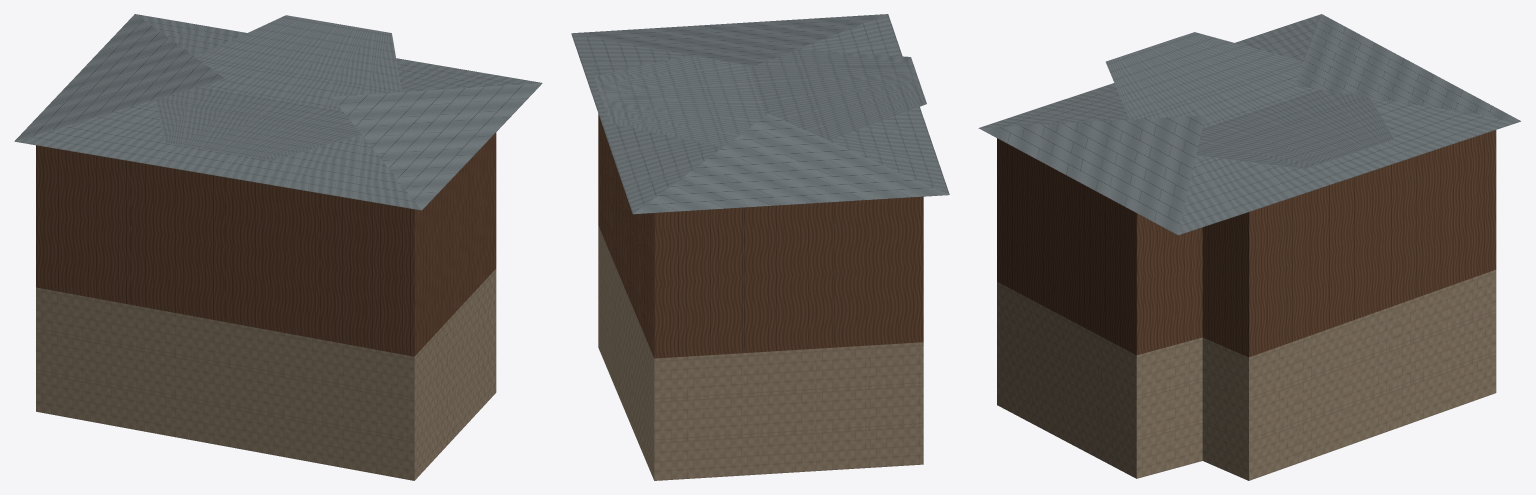
The model's file is bld_c44_-39_420.gltf.
3 views of the same model, side by side, from view 1: azimuth 30°, elevation 25°; view 2: azimuth 150°, elevation 25°; view 3: azimuth 270°, elevation 25° (orthographic).
Visible parts, largest first — view 1: bld_c44_-39_420; view 2: bld_c44_-39_420; view 3: bld_c44_-39_420.
Boxes of the visible parts, <box> form: bld_c44_-39_420: <box>14,14,542,480</box>; bld_c44_-39_420: <box>571,14,949,480</box>; bld_c44_-39_420: <box>978,14,1520,480</box>.
Size of the model in its own units: 19.61 by 12.4 by 20.33.
Materials: 3 (3 with a texture image).
